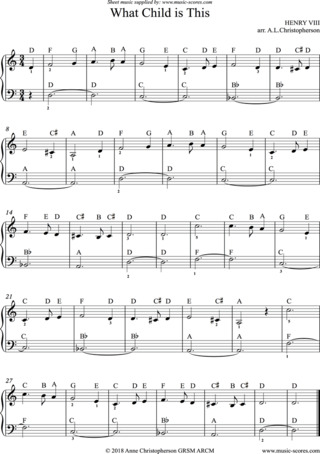Partitura: (0, 1, 320, 454)
